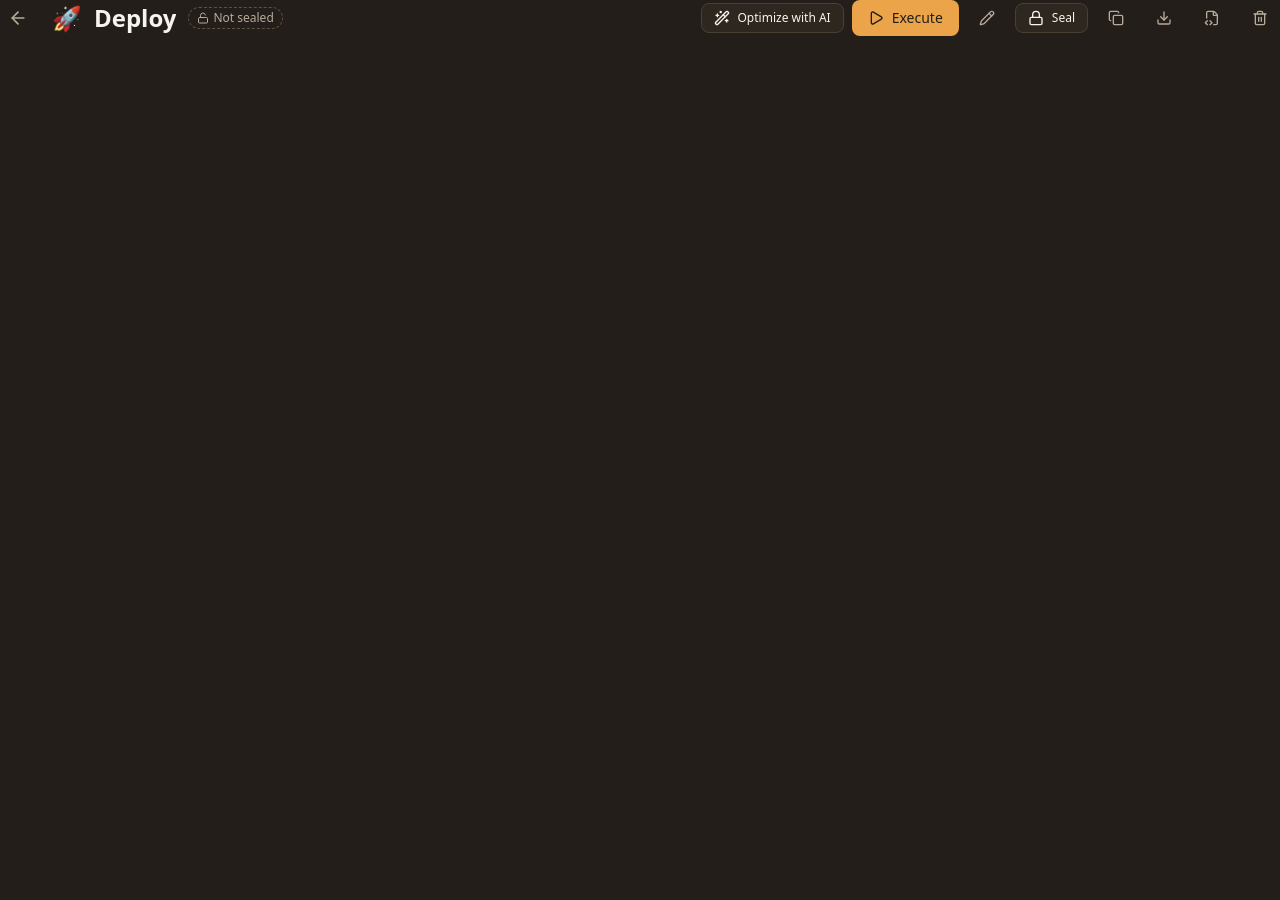
it: WorkflowDetailHeader sealing › seals after confirmation when the module is on
Click the button "Seal": click(1051, 18) [1015,3,1088,33]
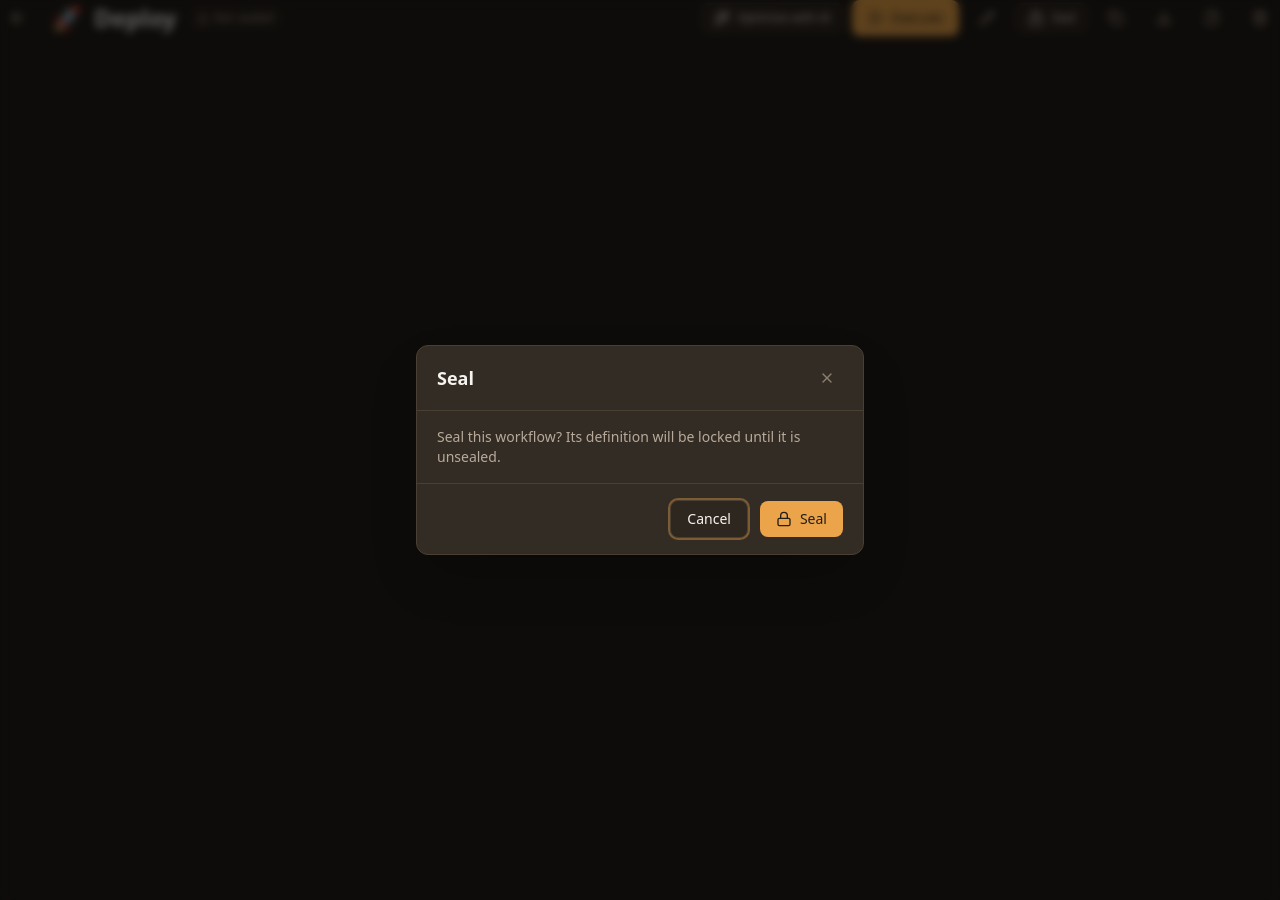
Expected: the text "Seal this workflow? Its definition will be locked until it is unsealed." is shown, [437,427,843,467]
Click the button "Cancel": click(709, 519) [670,500,748,538]
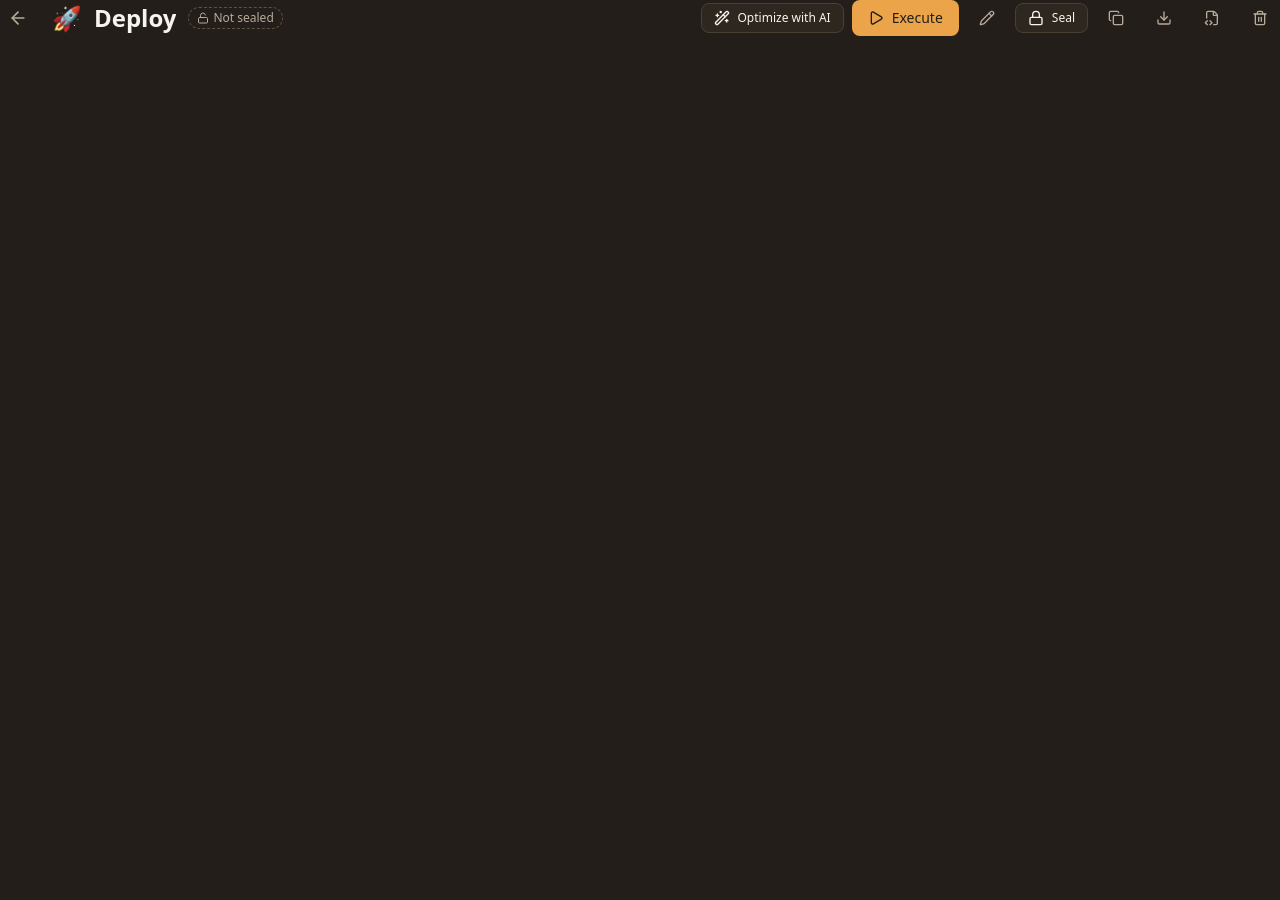
Expected: the dialog is gone
Click the button "Seal": click(1051, 18) [1015,3,1088,33]
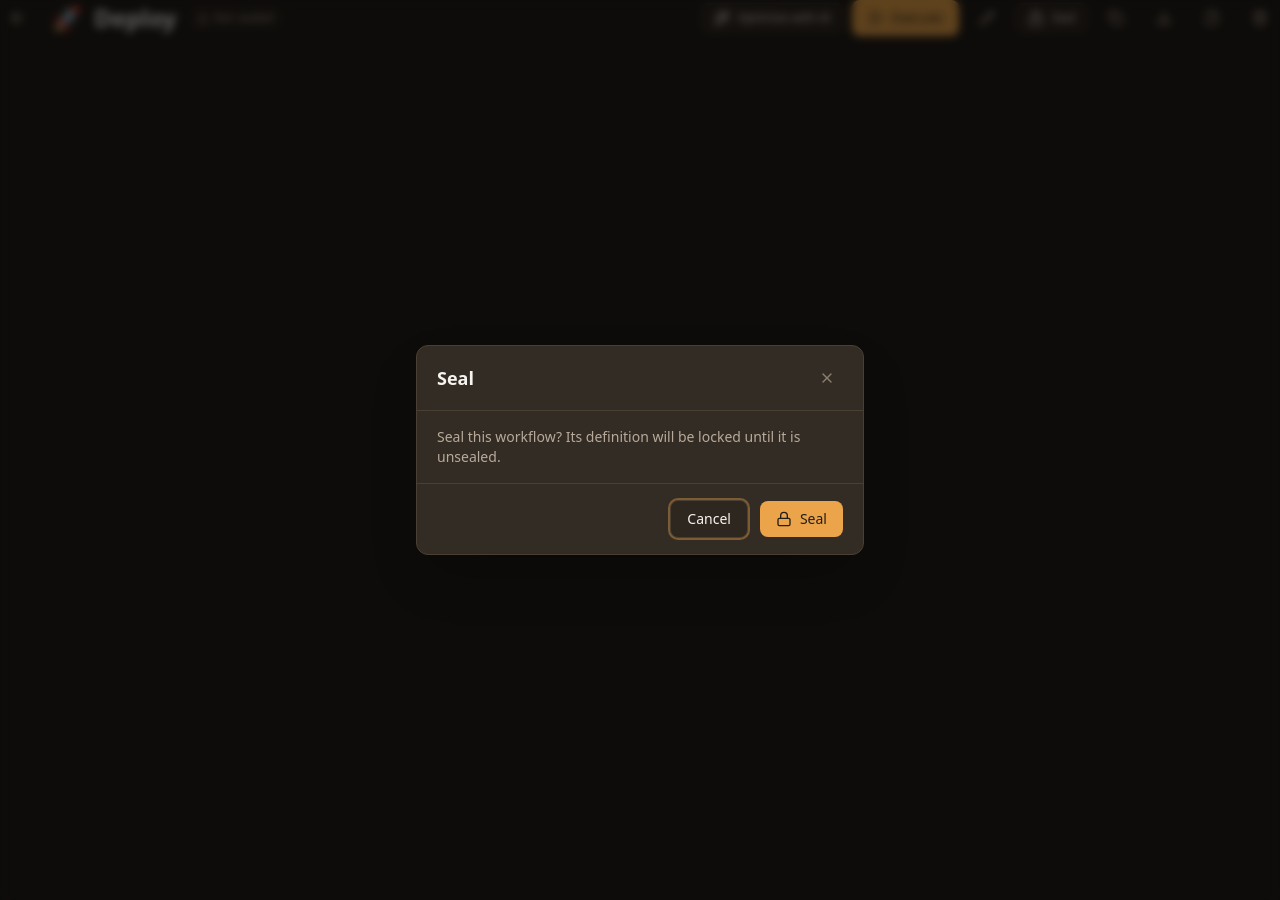
Click the button "Seal": click(801, 519) [760,501,843,537]
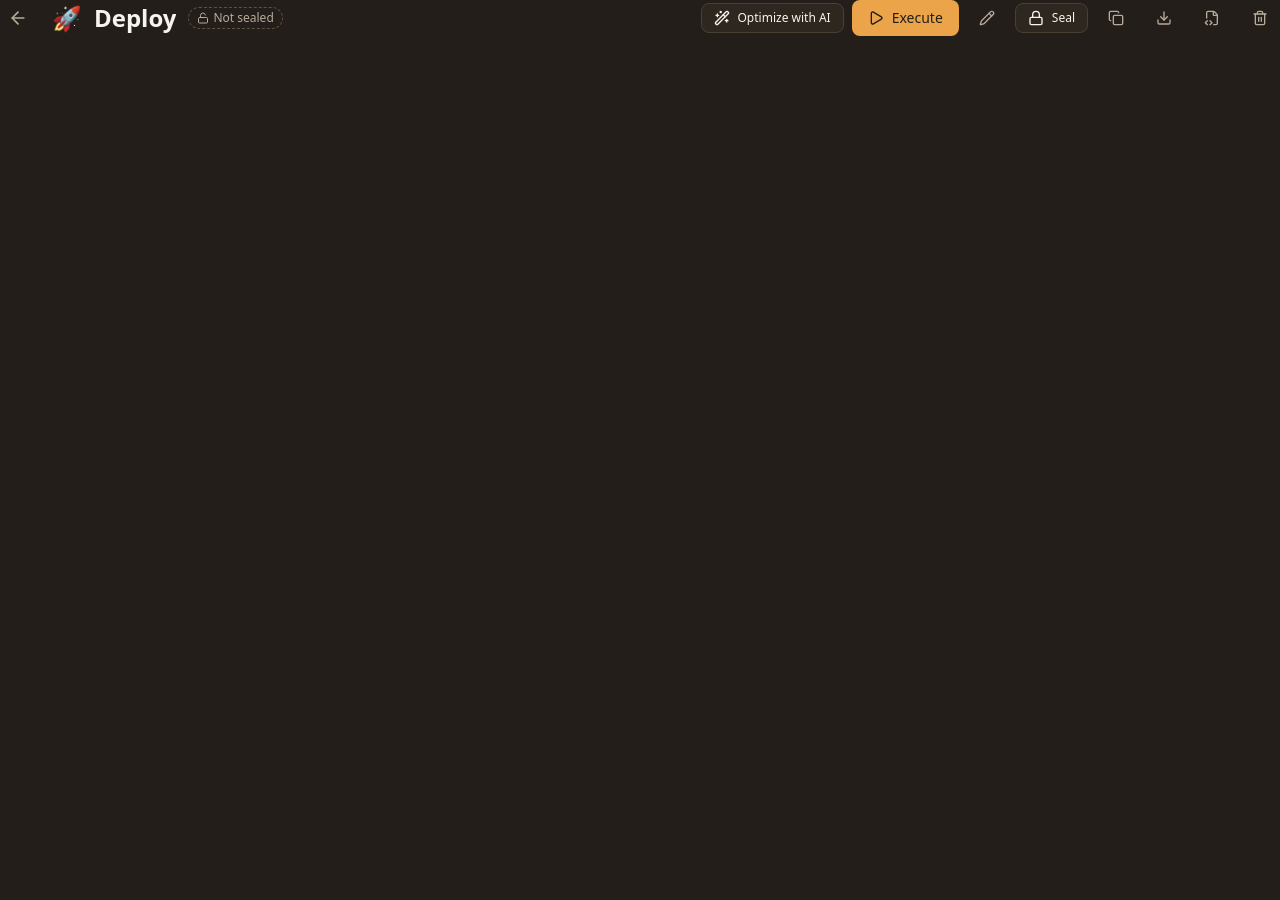
Expected: the dialog is gone
